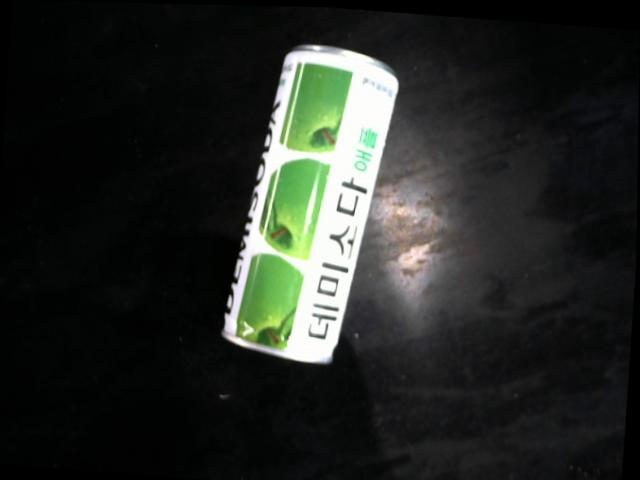can: (220, 41, 401, 365)
